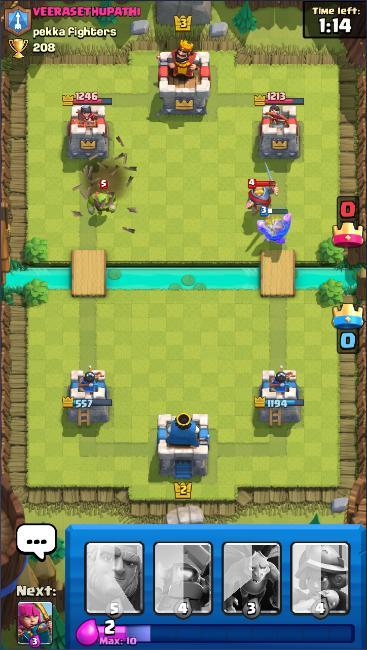ally_knight: (256, 205, 293, 246)
enemy_brawler: (87, 178, 118, 219)
enemy_knight: (244, 159, 281, 217)
